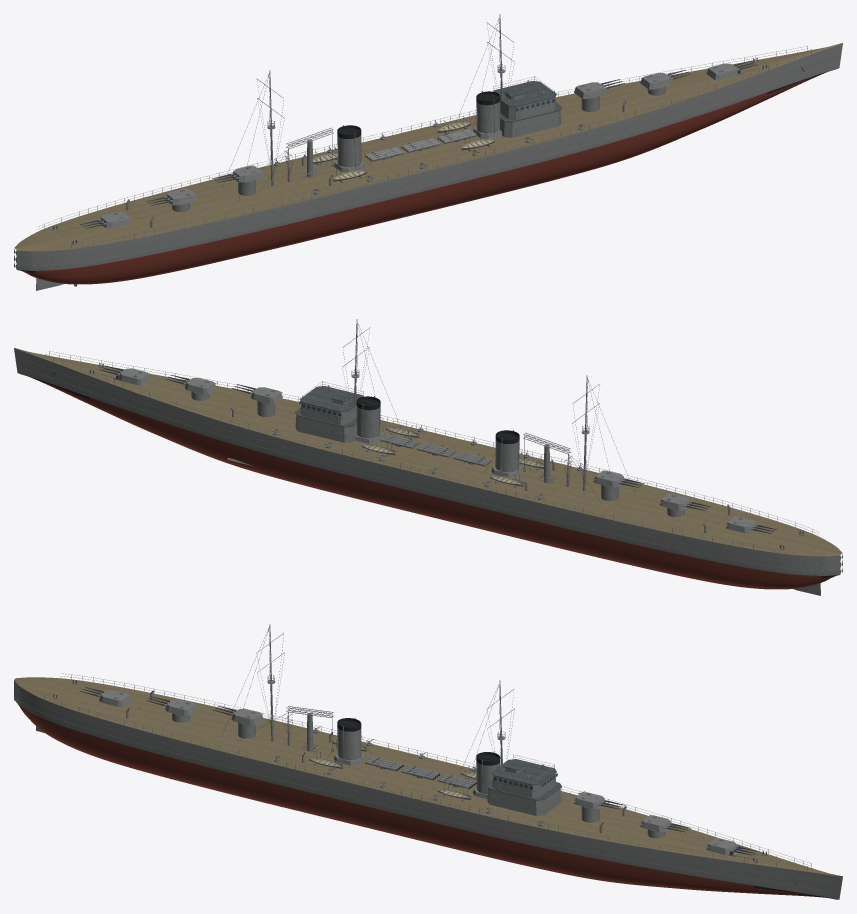
The model's file is maya_t29.glb.
The picture shows the model from 3 angles, top to bottom: view 1: azimuth 30°, elevation 25°; view 2: azimuth 150°, elevation 25°; view 3: azimuth 330°, elevation 25°; orthographic projection.
Visible parts, largest first — view 1: Maya class; view 2: Maya class; view 3: Maya class.
Part boxes in pixels (x1,y1,x2,y2): Maya class: [14, 14, 842, 290]; Maya class: [14, 319, 842, 595]; Maya class: [14, 624, 842, 899].
Bounding box in the file's own units: 172 × 32.93 × 16.49.
9 materials, 8 textured.
